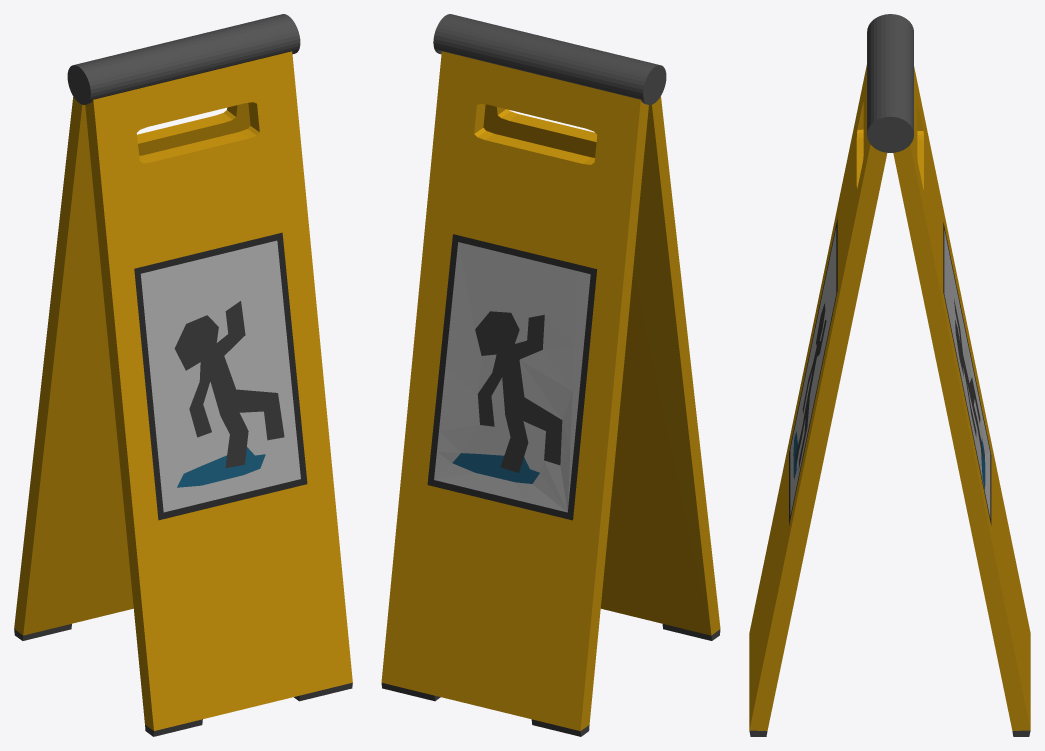
The model's file is Wet Floor Sign Standing.fbx.
The picture shows the model from 3 angles, left to right: view 1: azimuth 30°, elevation 25°; view 2: azimuth 150°, elevation 25°; view 3: azimuth 270°, elevation 25°; orthographic projection.
Parts seen in each view (by area): view 1: Wet Floor Sign Standing; view 2: Wet Floor Sign Standing; view 3: Wet Floor Sign Standing.
Part boxes in pixels (<box>): Wet Floor Sign Standing: <box>14,14,352,736</box>; Wet Floor Sign Standing: <box>381,14,720,736</box>; Wet Floor Sign Standing: <box>749,14,1030,736</box>.
Bounding box in the file's own units: 35.05 × 99.12 × 40.54.
1 material, 1 textured.
